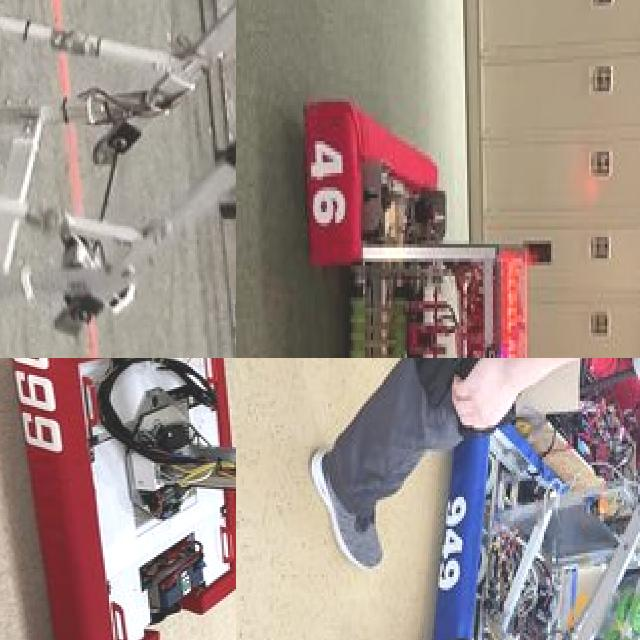FRC-Robots: (310, 63, 640, 358), (0, 0, 236, 358), (0, 358, 236, 640), (404, 362, 640, 640)
